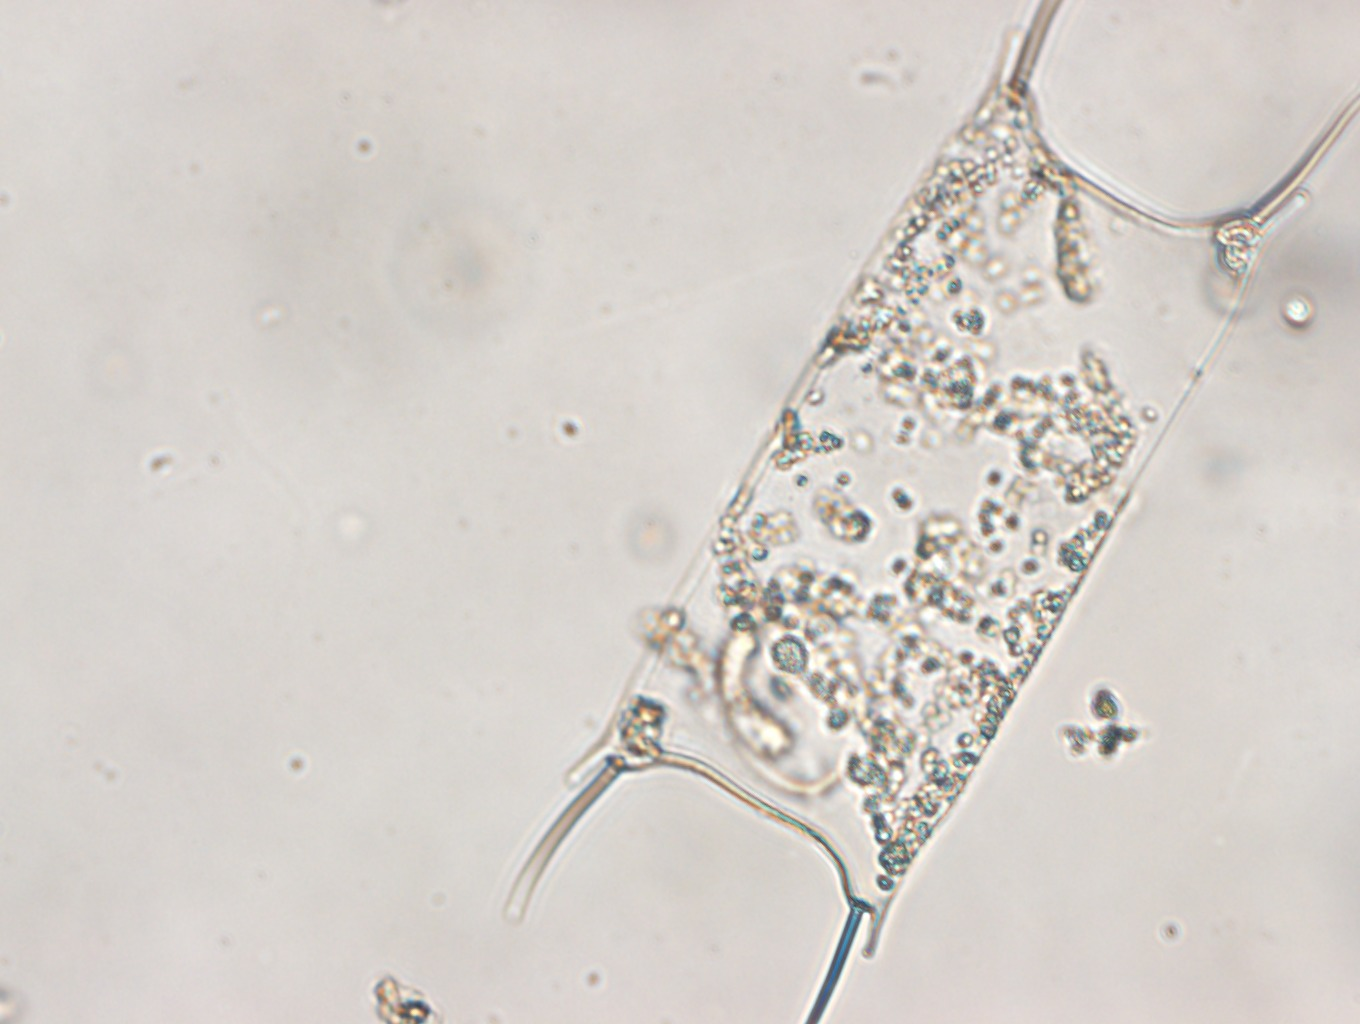biddulphia: (502, 1, 1357, 1024)
